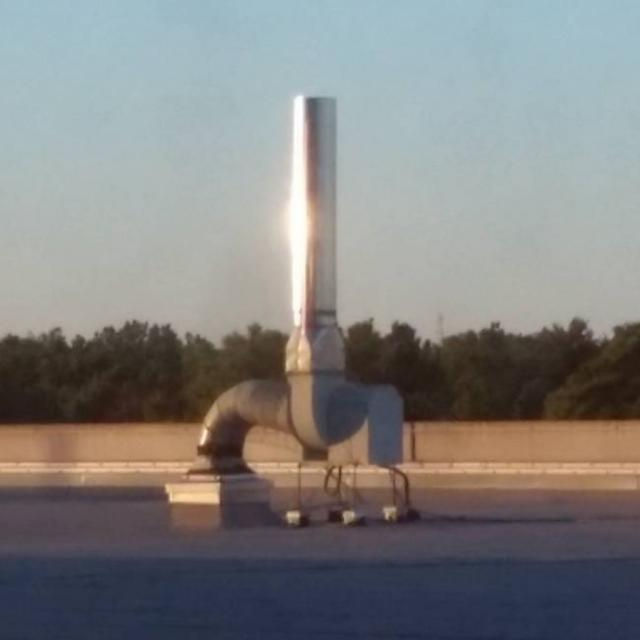Missile: (270, 82, 364, 379)
